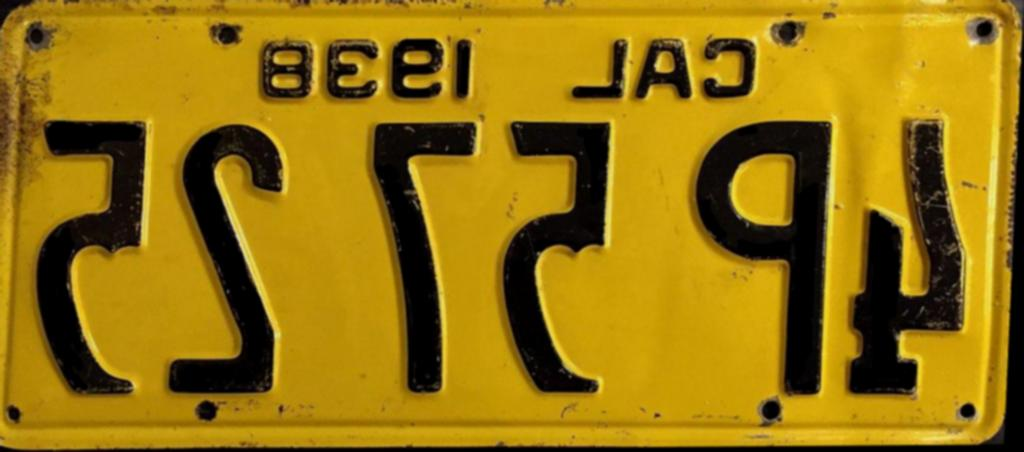License_Plate: (0, 10, 1009, 435)
